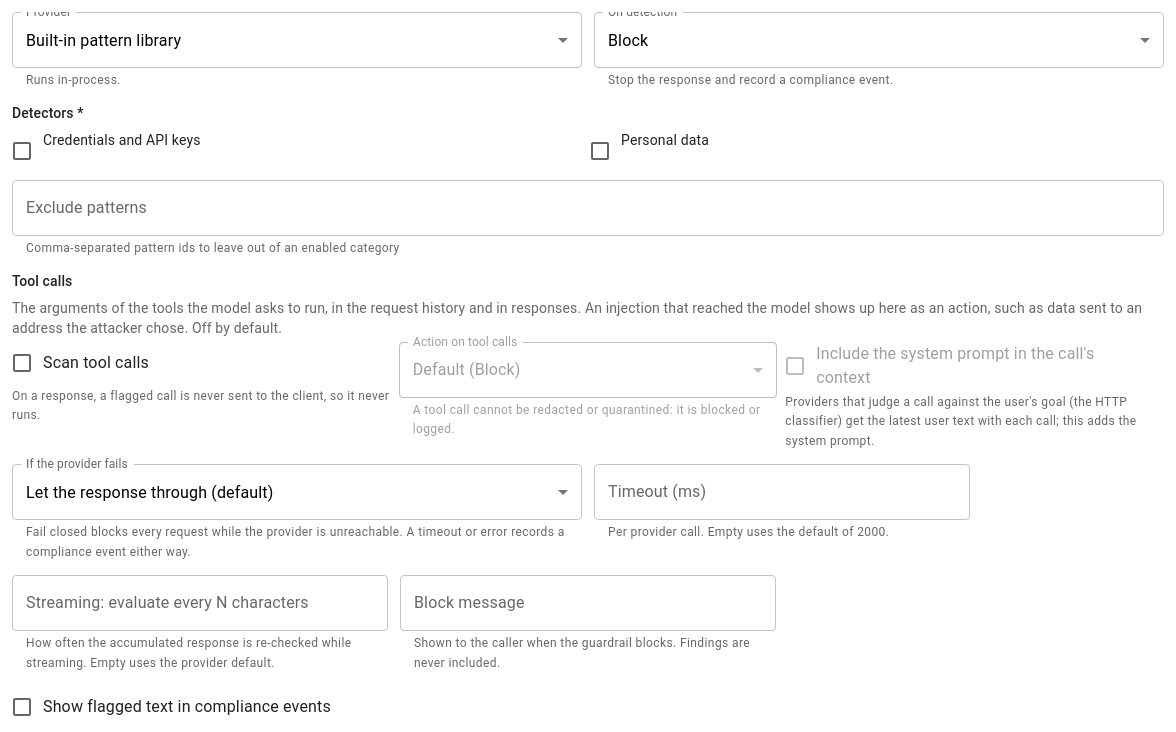
it: GuardrailConfigForm: tool results › offers no quarantine, tool-result, cache or budget settings on a response filter
The width and height of the screenshot is (1176, 732).
Press the mouse on the dropdown named "on detection" at (628, 40), box [608,30,648,50]
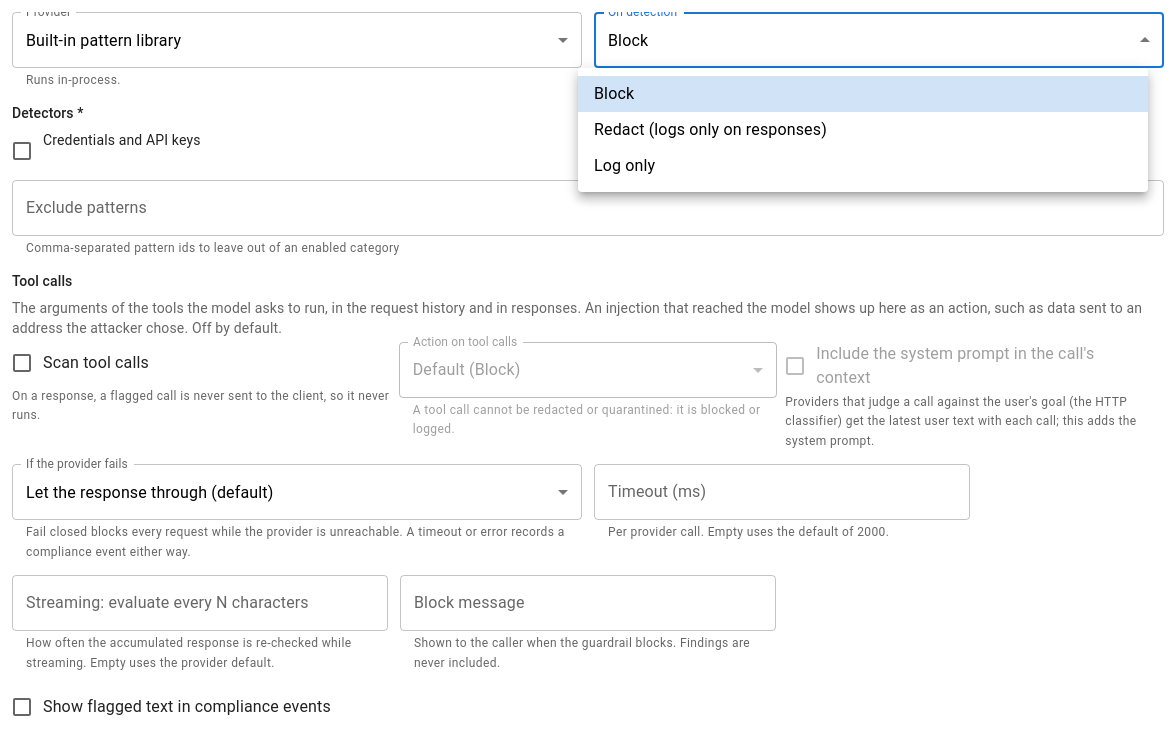
Expected: the option "Block" is shown, [578,76,1148,112]
